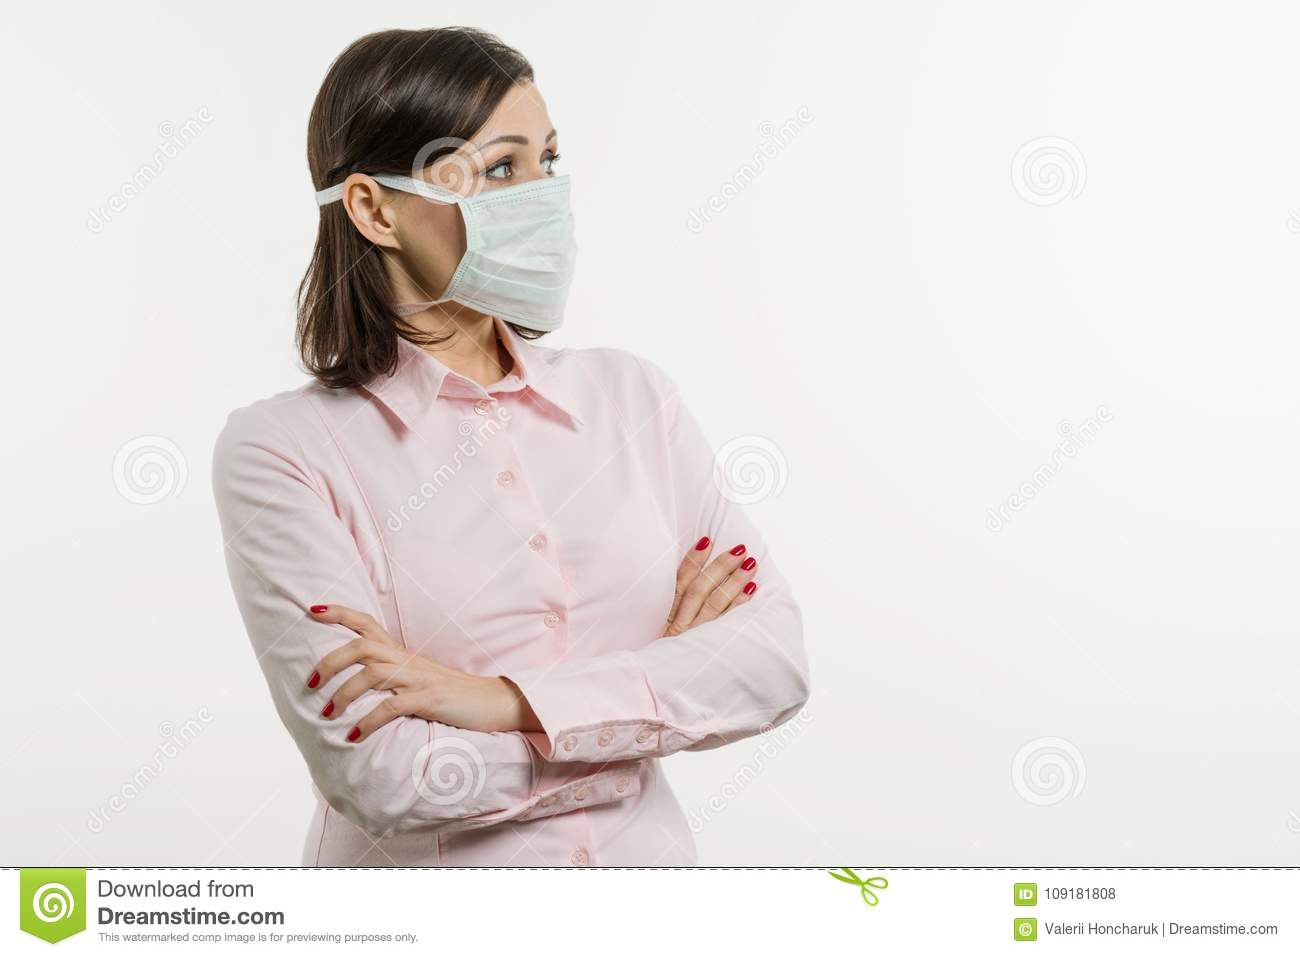mask: (442, 181, 584, 334)
